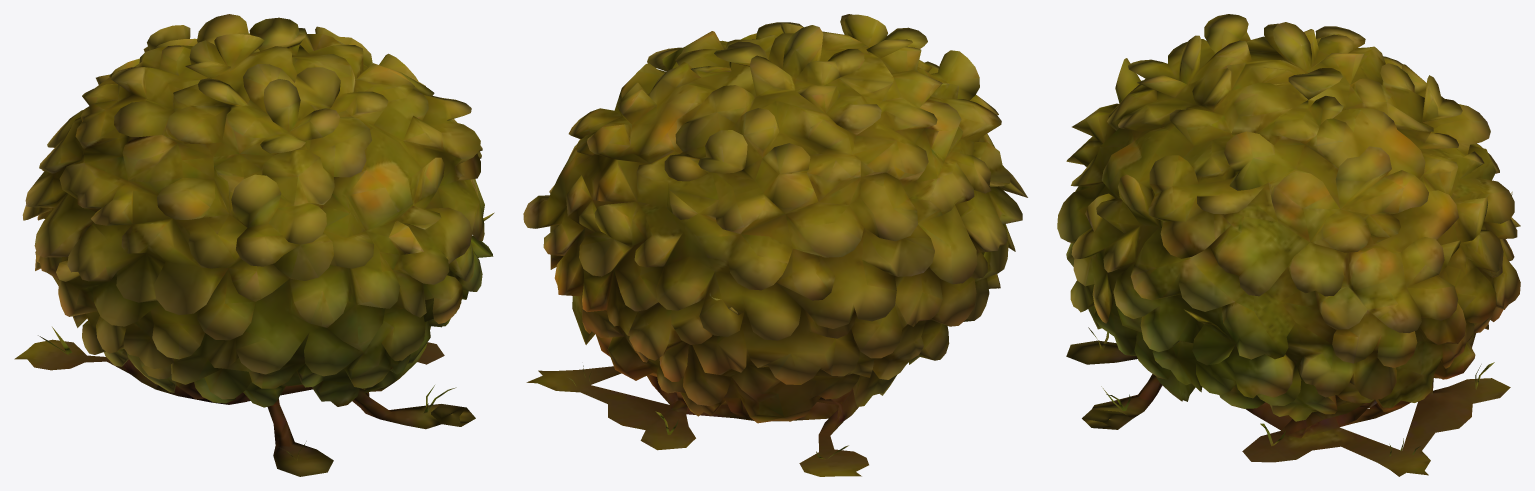
Rendered from bush.glb.
3 views of the same model, side by side, from view 1: azimuth 30°, elevation 25°; view 2: azimuth 150°, elevation 25°; view 3: azimuth 270°, elevation 25° (orthographic). The views are drawn at different scales.
Parts seen in each view (by area): view 1: tripo_node_265a96c7-a645-44e3-9316-9c6915ab2e1b; view 2: tripo_node_265a96c7-a645-44e3-9316-9c6915ab2e1b; view 3: tripo_node_265a96c7-a645-44e3-9316-9c6915ab2e1b.
Part boxes in pixels (<box>): tripo_node_265a96c7-a645-44e3-9316-9c6915ab2e1b: <box>14,14,494,476</box>; tripo_node_265a96c7-a645-44e3-9316-9c6915ab2e1b: <box>523,14,1027,476</box>; tripo_node_265a96c7-a645-44e3-9316-9c6915ab2e1b: <box>1057,14,1520,476</box>.
Bounding box in the file's own units: 1.94 × 1.6 × 1.94.
1 material, 1 textured.
